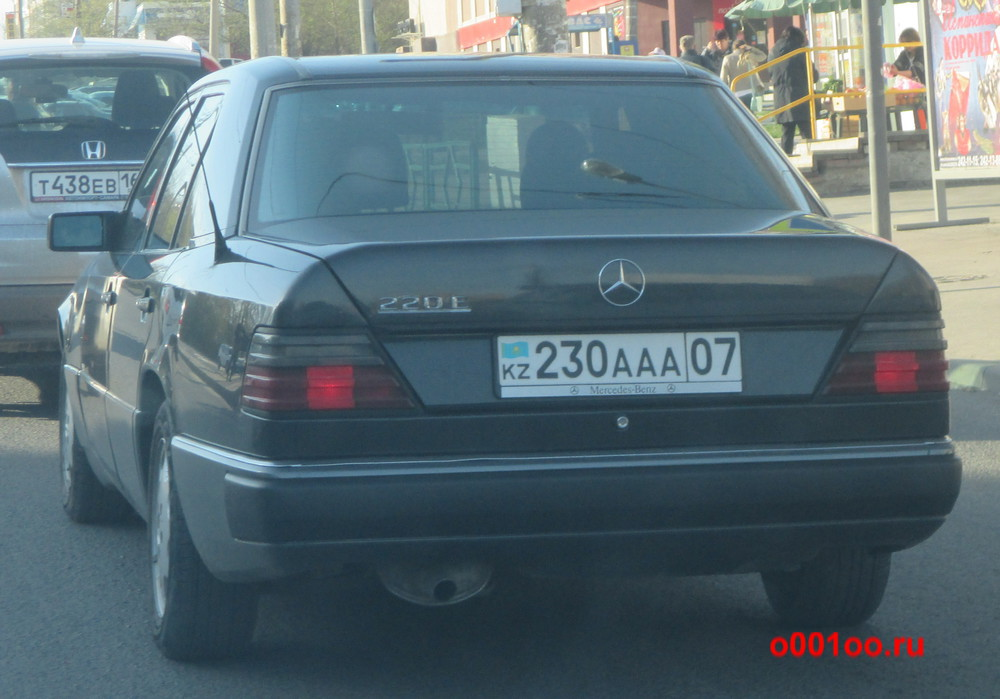license_plate: (496, 333, 744, 395)
